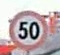limite 50: (7, 10, 47, 49)
